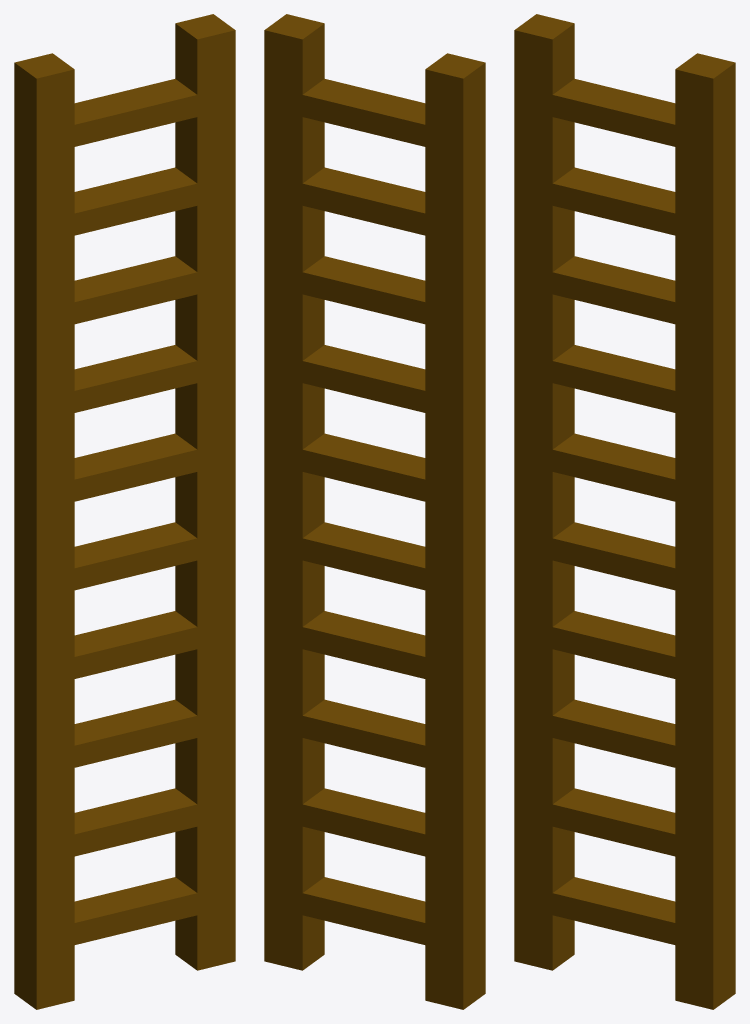
File: LADder.fbx
The picture shows the model from 3 angles, left to right: view 1: azimuth 30°, elevation 25°; view 2: azimuth 150°, elevation 25°; view 3: azimuth 330°, elevation 25°; orthographic projection.
Visible parts, largest first — view 1: pCube2; view 2: pCube2; view 3: pCube2.
Boxes of the visible parts, x1,y1,x2,y2 form: pCube2: (14, 14, 235, 1009); pCube2: (264, 14, 485, 1009); pCube2: (514, 14, 735, 1009).
Size of the model in its own units: 3.09 by 13.83 by 0.5937.
